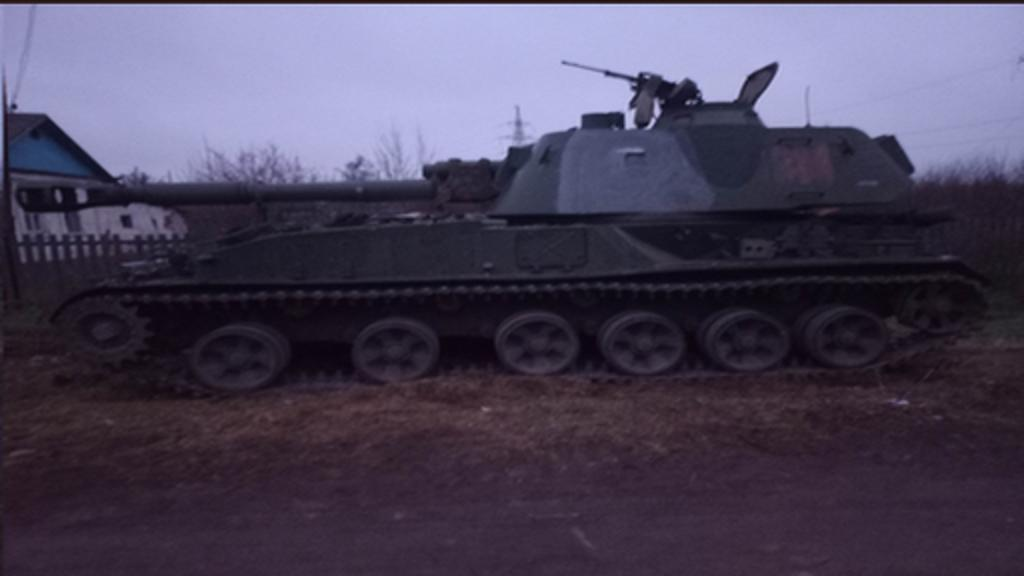ART: (8, 56, 990, 402)
